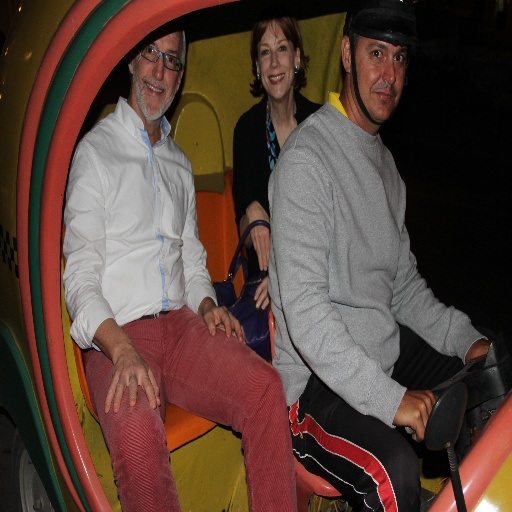hand: (103, 347, 161, 412), (404, 383, 442, 453), (202, 305, 246, 345), (249, 206, 270, 272), (465, 339, 492, 366), (254, 275, 269, 314)
